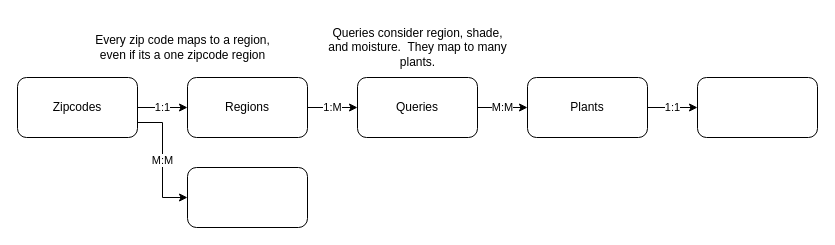
The diagram is 835 pixels wide and 245 high, and some of its shapes have lost their labels. Each missing label, with the centre of its shape:
"Images" goes at (x=757, y=107).
"Nurseries" goes at (x=247, y=197).
